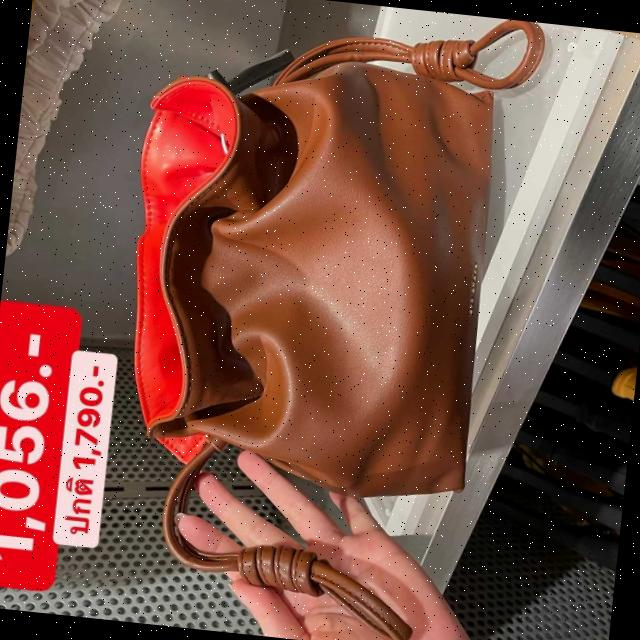Handbag: (96, 0, 520, 526)
